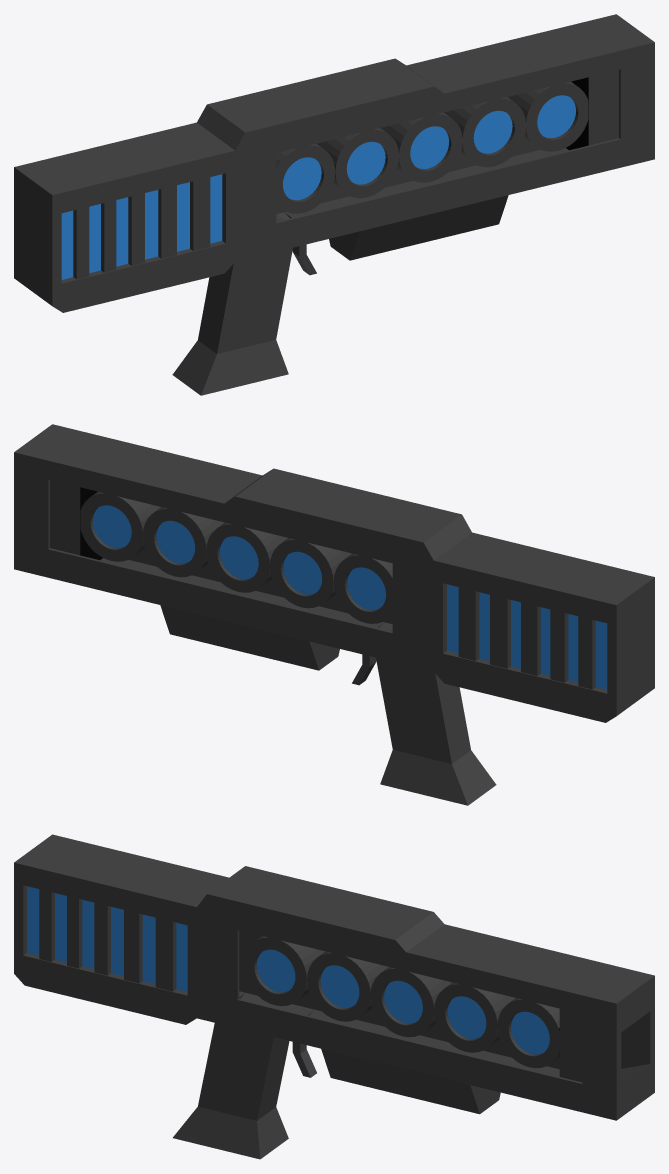
Rendered from RocketIK.fbx.
3 views of the same model, one above another, from view 1: azimuth 30°, elevation 25°; view 2: azimuth 150°, elevation 25°; view 3: azimuth 330°, elevation 25° (orthographic).
Visible parts, largest first — view 1: Cube.001; view 2: Cube.001; view 3: Cube.001.
Boxes of the visible parts, x1,y1,x2,y2 form: Cube.001: [14, 14, 654, 395]; Cube.001: [14, 424, 654, 805]; Cube.001: [14, 834, 654, 1159].
Size of the model in its own units: 675 by 275 by 74.59.
